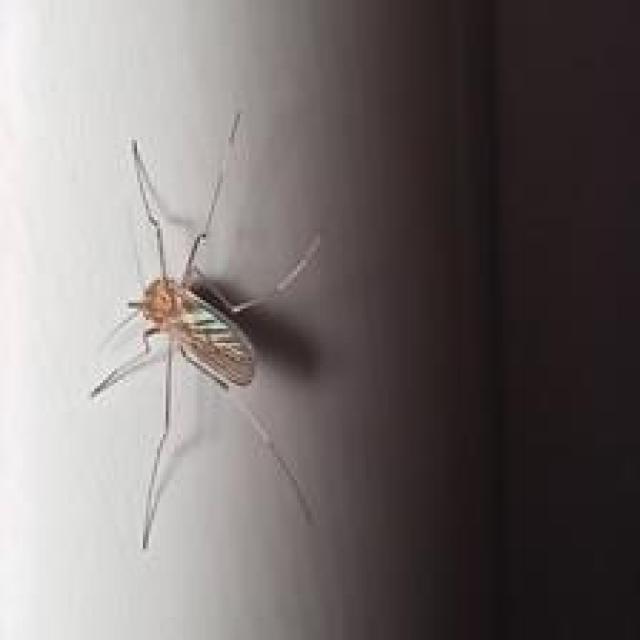Culex: (88, 110, 323, 550)
